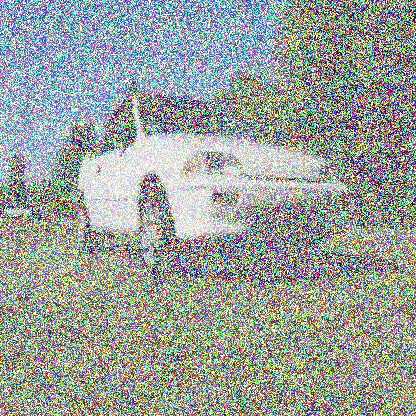Vehicle: (75, 81, 353, 293)
